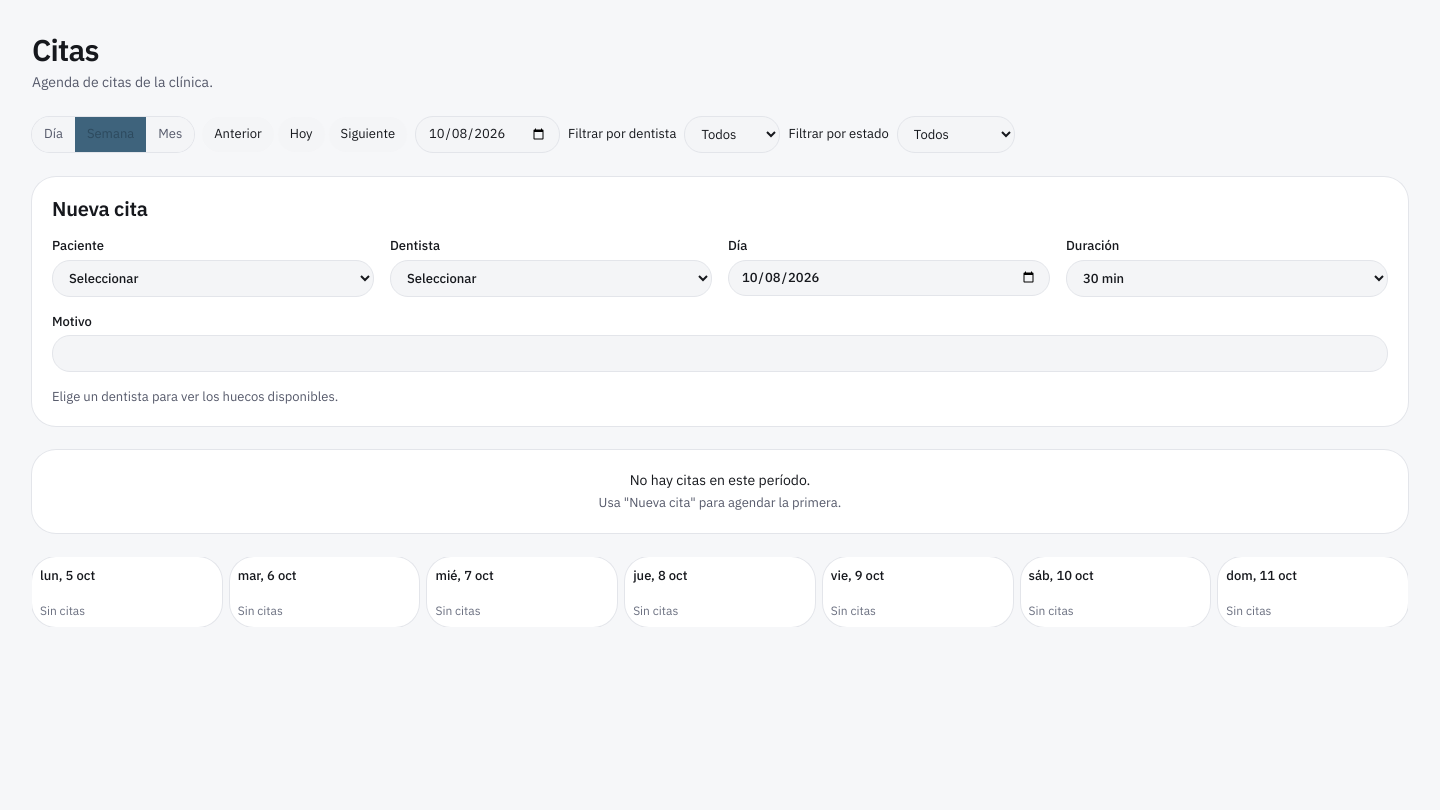
Test: Citas — navegación temporal › Mes: Anterior, Siguiente y Hoy respetan los rangos y el cambio de año
This screenshot has width=1440, height=810.
Expected: the text "Cargando citas…" is not shown
Click the button "Mes". click: (170, 134)
box: [146,117,194,152]
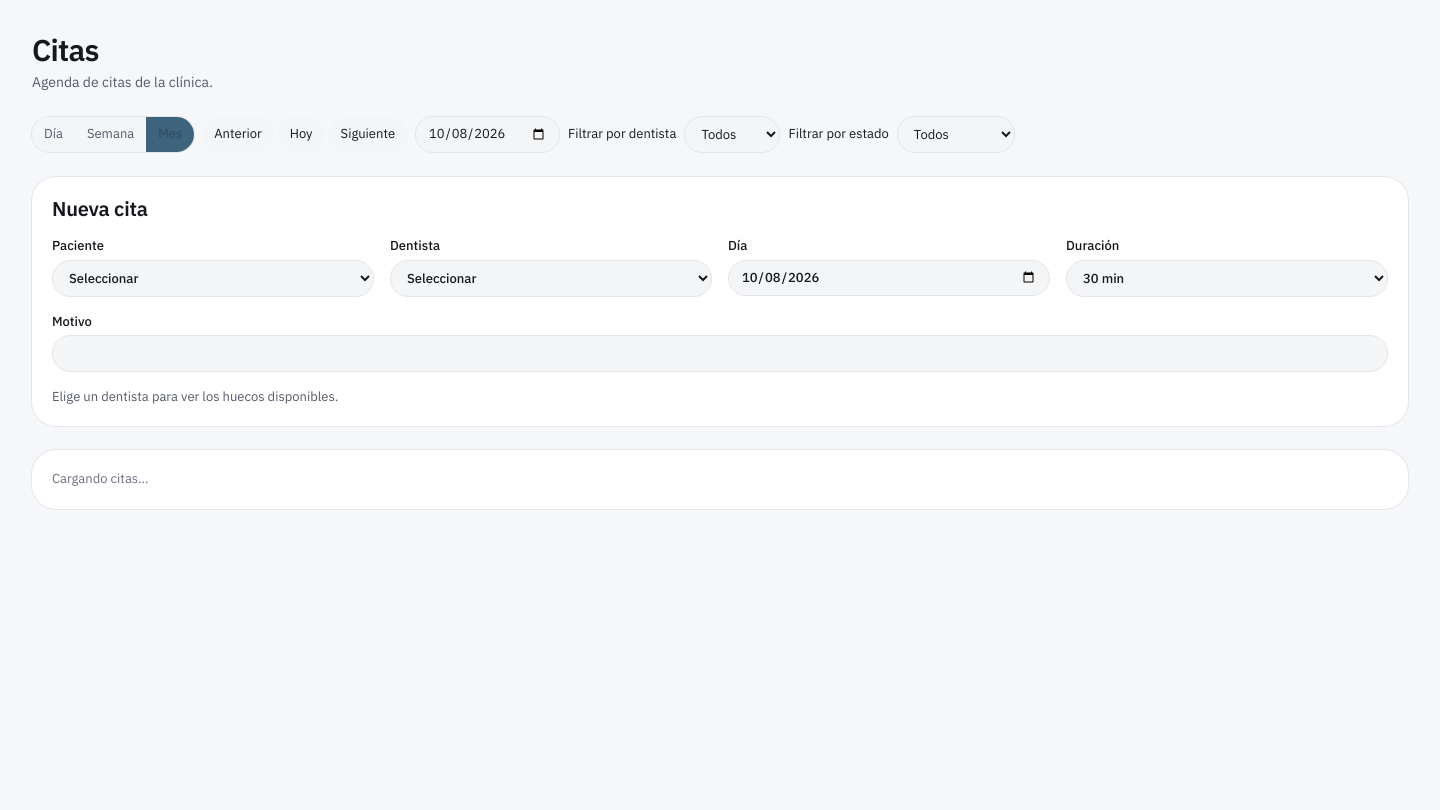
Type "2026-12-31" into the date field named "Fecha". click: (488, 134)
box: [415,116,560,153]
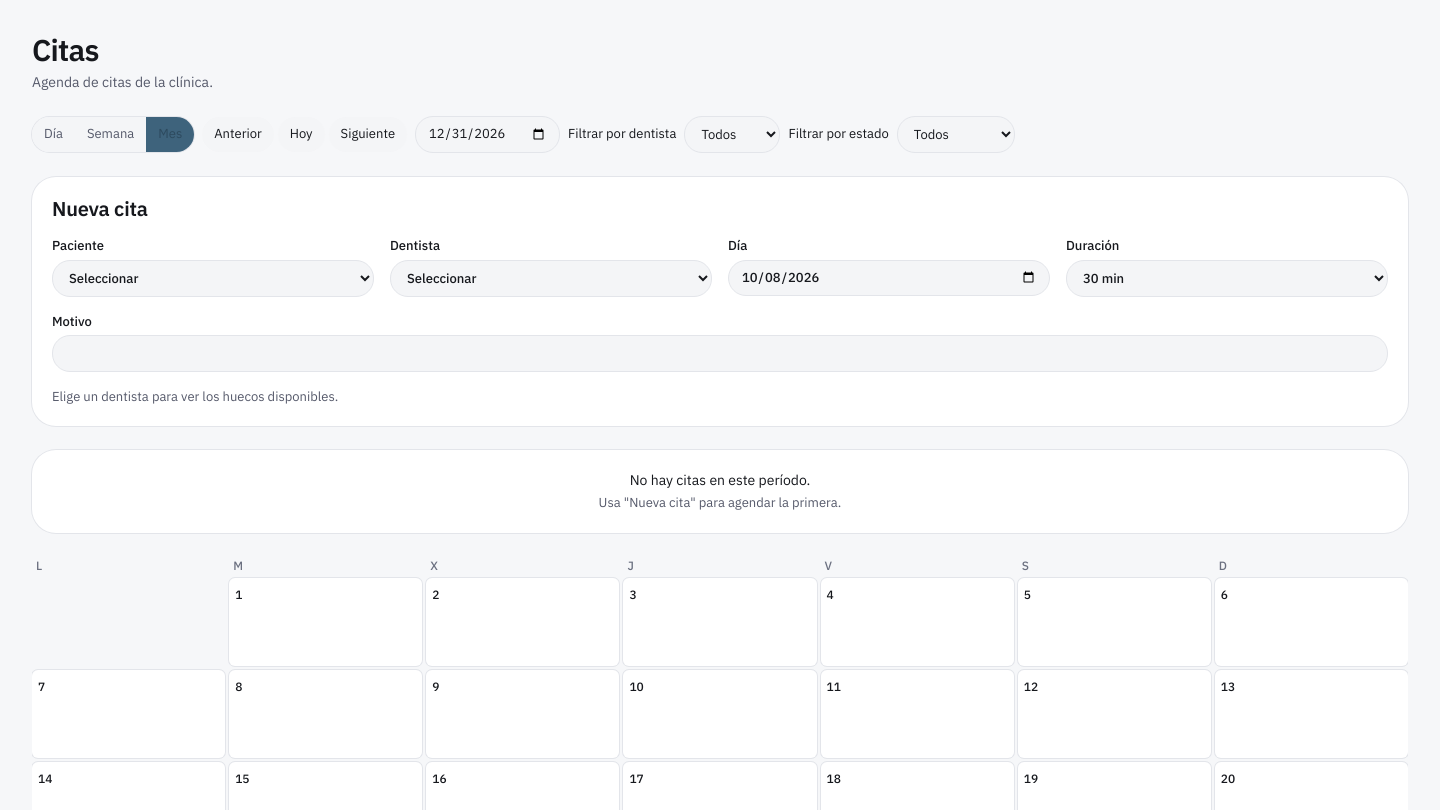
Result: the text "Cargando citas…" is gone
Click the button "Anterior". click: (238, 134)
box: [202,117,274,152]
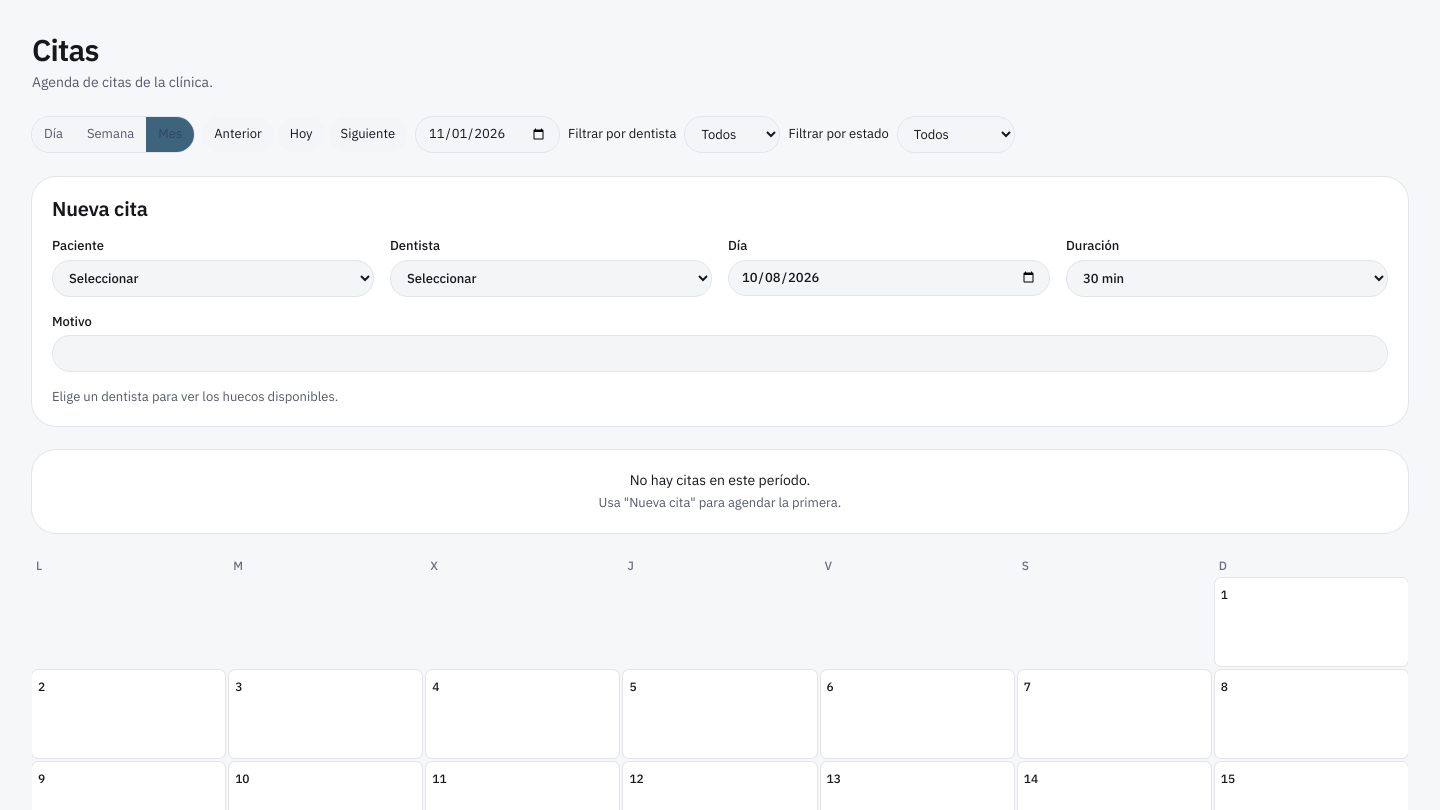
Expected: the text "Cargando citas…" is not shown
Result: the date field named "Fecha" holds "2026-11-01" at [415,116,560,153]
Click the button "Siguiente". click: (368, 134)
box: [329,117,407,152]
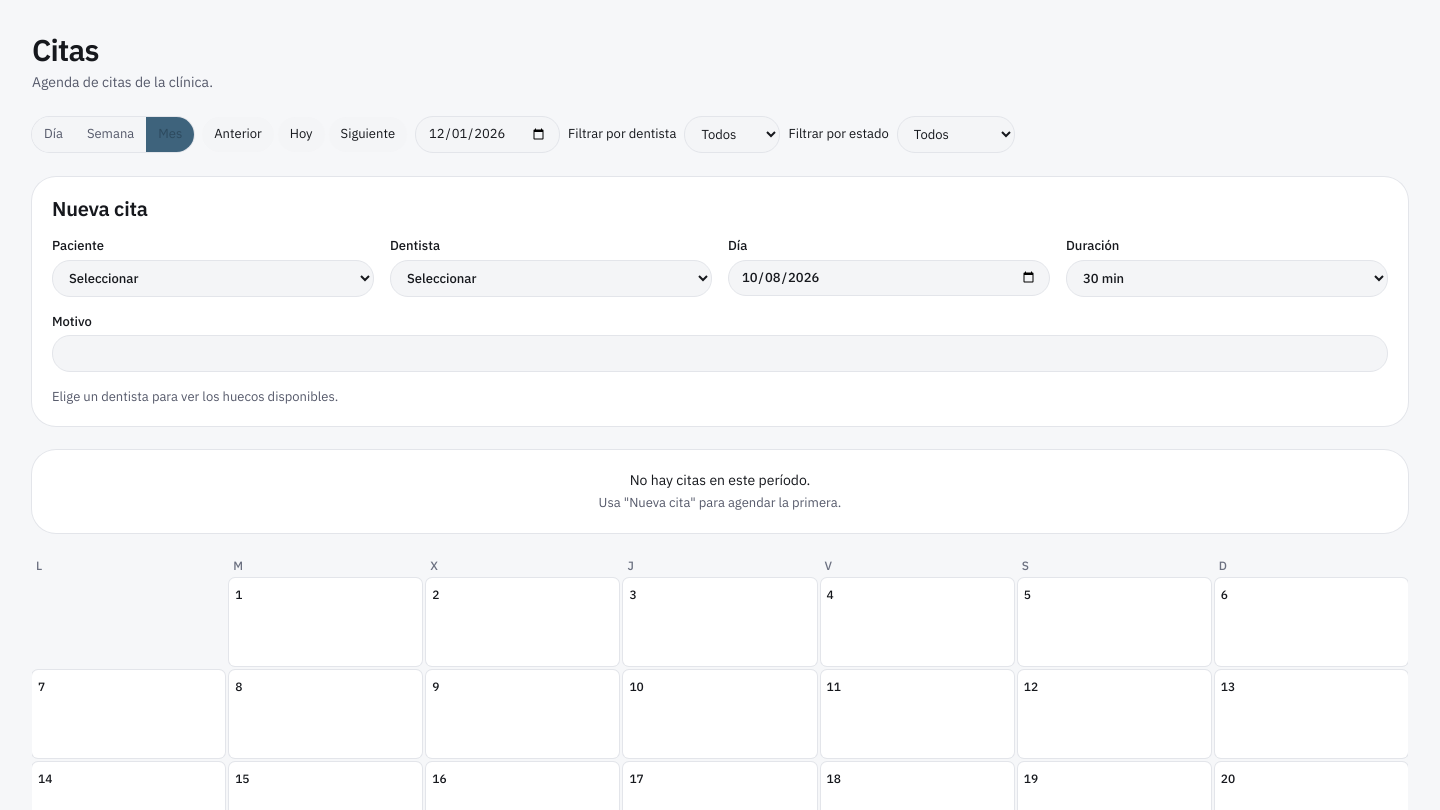
Expected: the text "Cargando citas…" is not shown
Result: the date field named "Fecha" holds "2026-12-01" at [415,116,560,153]
Click the button "Siguiente". click: (368, 134)
box: [329,117,407,152]
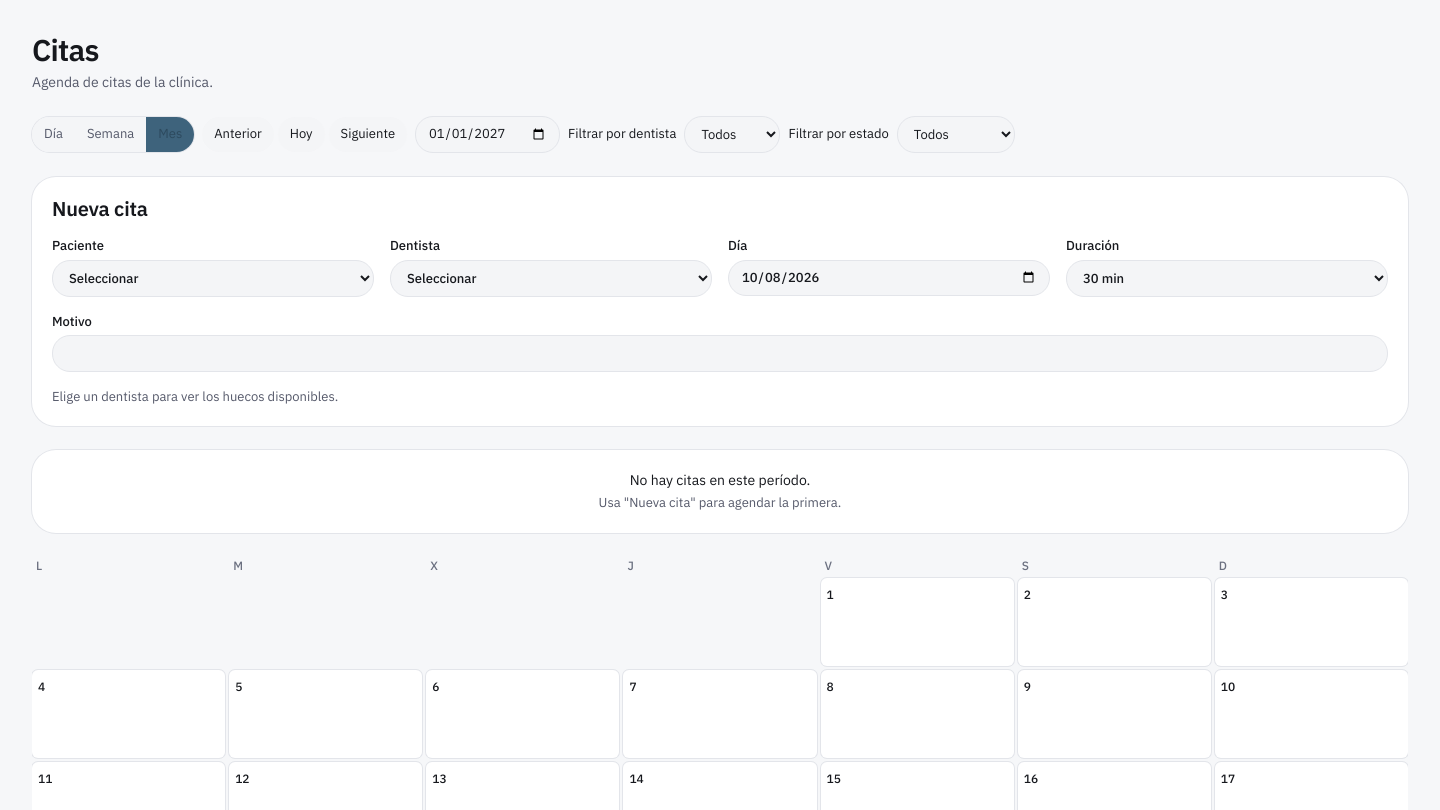
Expected: the text "Cargando citas…" is not shown
Result: the date field named "Fecha" holds "2027-01-01" at [415,116,560,153]
Click the button "Hoy". click: (301, 134)
box: [278,117,325,152]
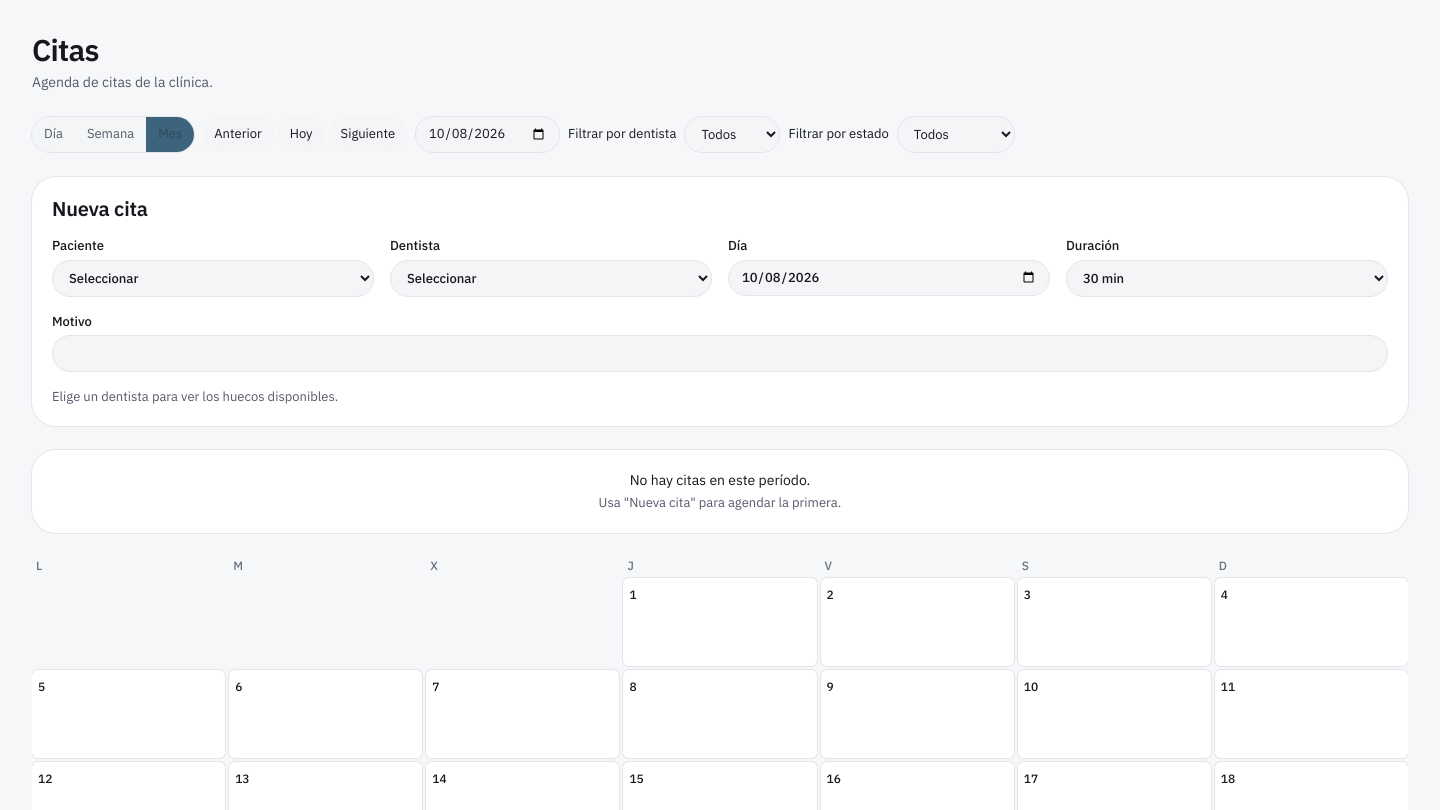
Expected: the text "Cargando citas…" is not shown
Result: the date field named "Fecha" holds "2026-10-08" at [415,116,560,153]
